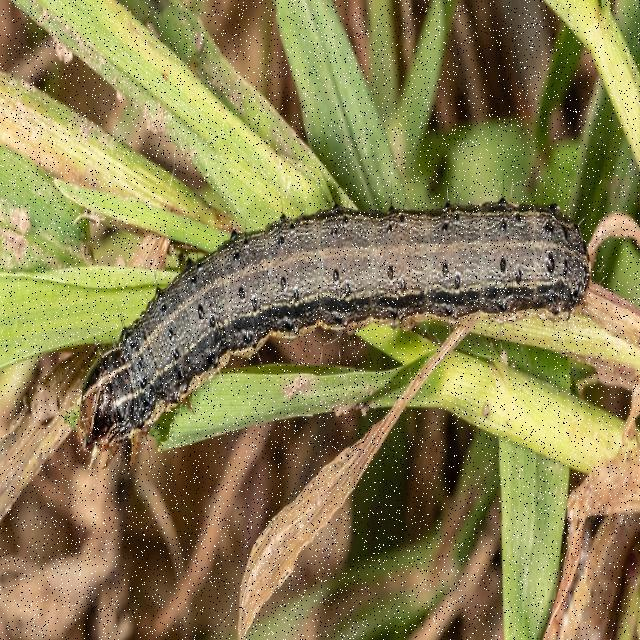army worm: (38, 155, 640, 494)
